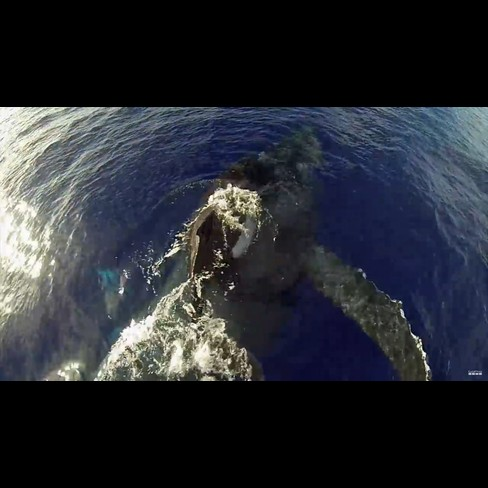hump: (128, 127, 436, 381)
